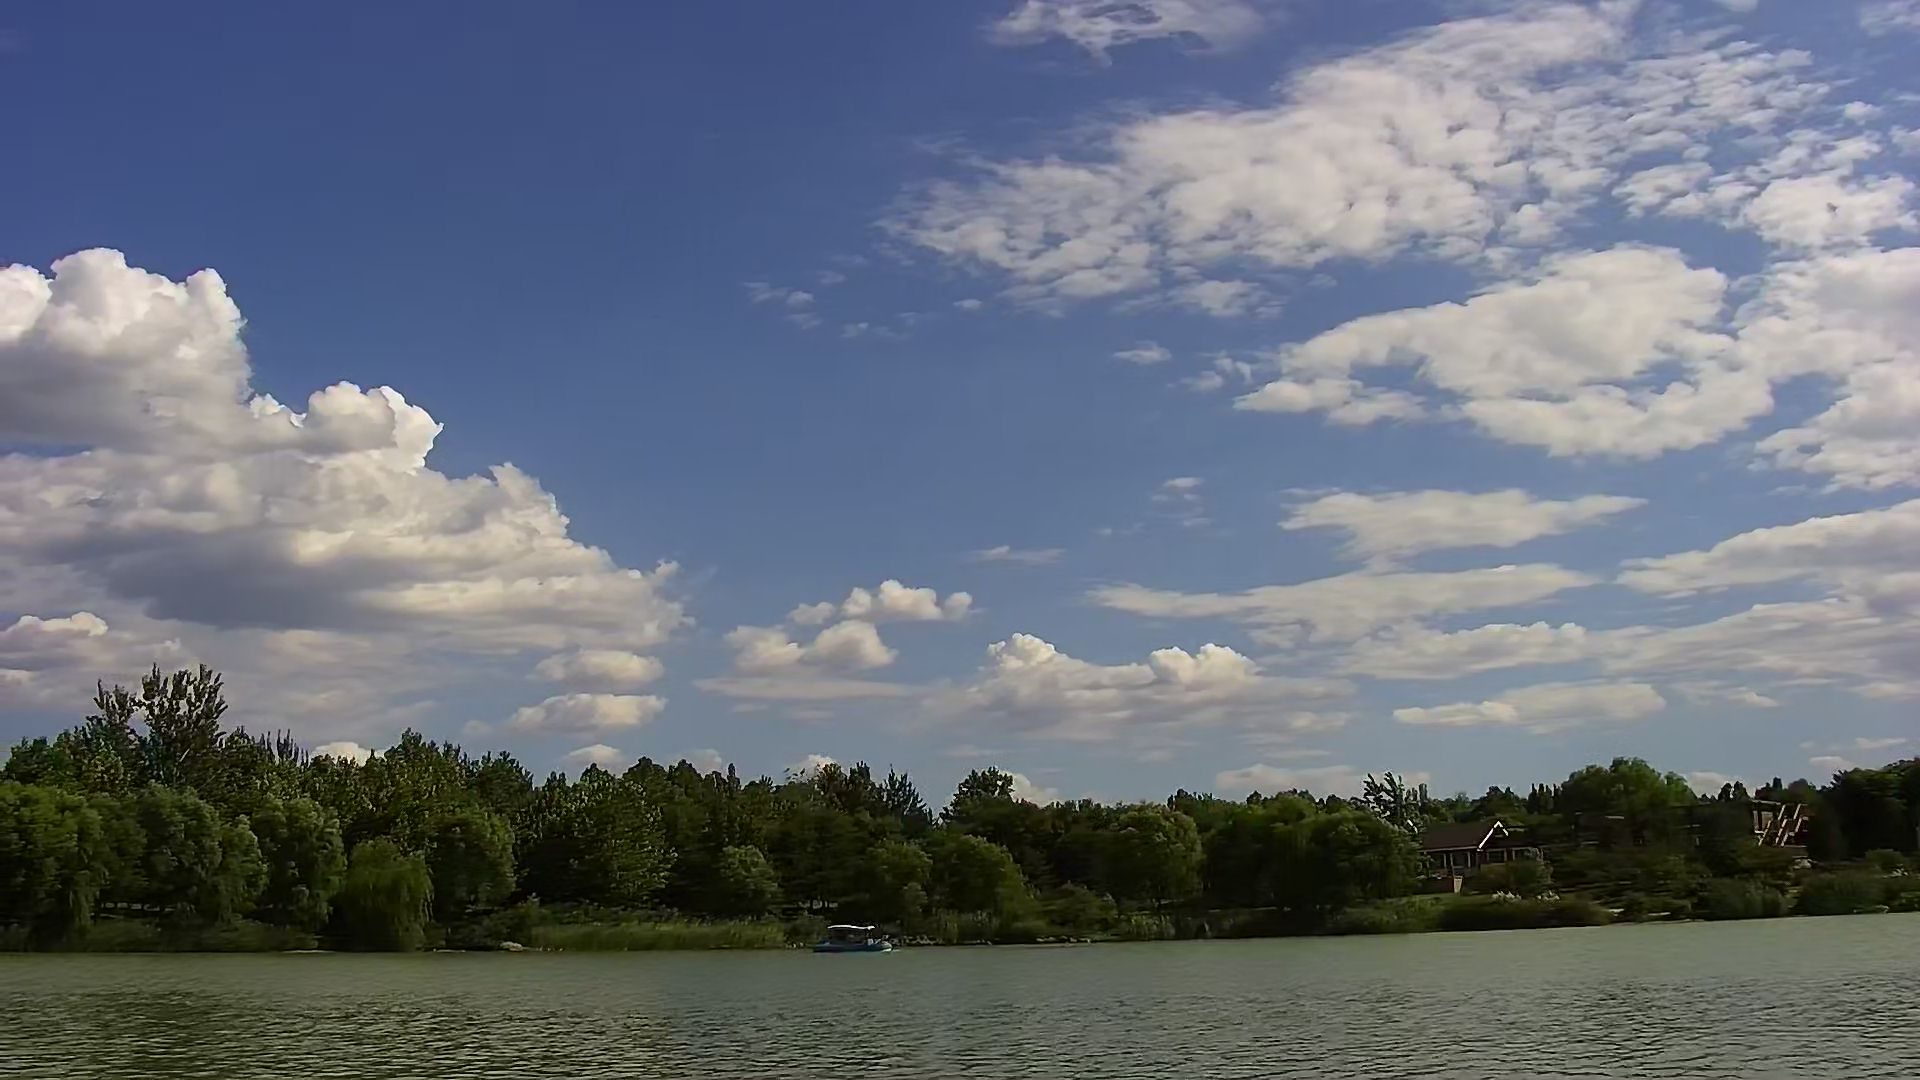boat: (814, 916, 902, 959)
